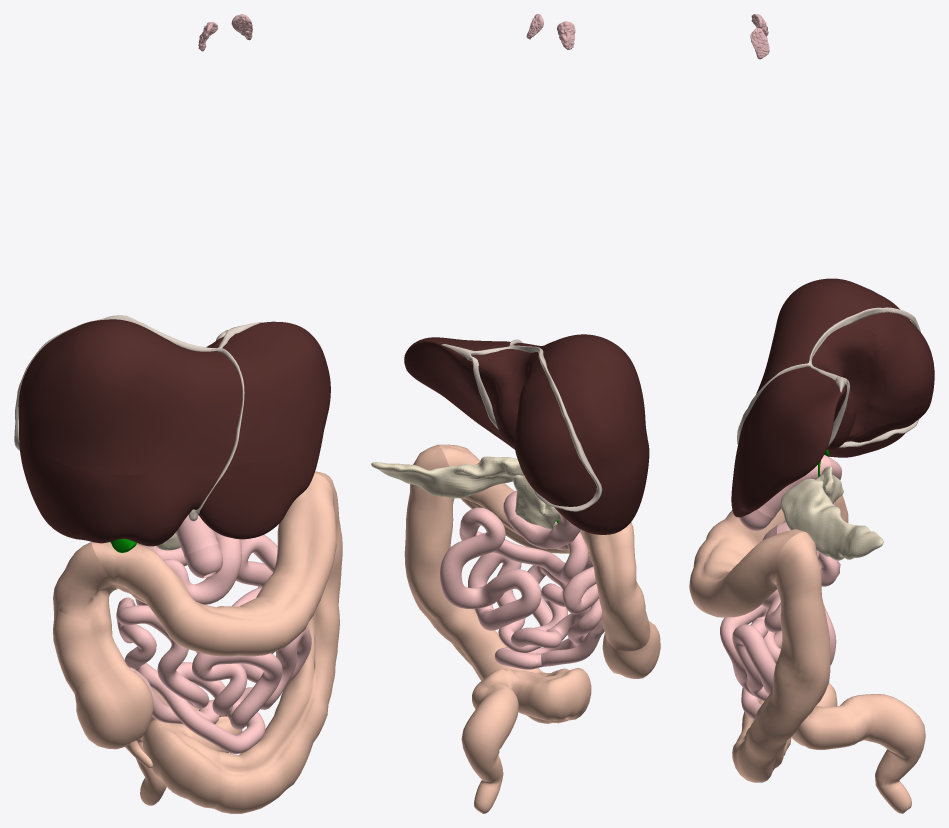
The model's file is digestive-meshopt.glb.
3 views of the same model, side by side, from view 1: azimuth 30°, elevation 25°; view 2: azimuth 150°, elevation 25°; view 3: azimuth 270°, elevation 25° (orthographic). The views are drawn at different scales.
Parts seen in each view (by area): view 1: VH_F_capsule_of_the_liver, VH_F_transverse_colon, VH_F_ileum, VH_F_descending_colon, VH_F_left_superomedial_segment1, VH_F_ascending_colon, VH_F_sigmoid_colon, VH_F_caecum, VH_F_jejenum, VH_F_left_inferomedial_segment, VH_F_right_anterosuperior_segment, VH_F_right_anteroinferior_segment (+9 smaller); view 2: VH_F_capsule_of_the_liver, VH_F_descending_colon, VH_F_bare_area_of_liver, VH_F_jejenum, VH_F_ileum, VH_F_ascending_colon, VH_F_rectum, VH_F_sigmoid_colon, VH_F_transverse_colon, VH_F_tail_of_pancreas, VH_F_left_superomedial_segment, VH_F_caecum (+8 smaller); view 3: VH_F_capsule_of_the_liver, VH_F_descending_colon, VH_F_bare_area_of_liver, VH_F_transverse_colon, VH_F_rectum, VH_F_ileum, VH_F_caudate_lobe, VH_F_sigmoid_colon, VH_F_tail_of_pancreas, VH_F_body_of_pancreas, VH_F_coronary_ligament_of_liver, VH_F_right_posterosuperior_segment (+7 smaller).
Boxes of the visible parts, x1,y1,x2,y2 form: VH_F_capsule_of_the_liver: (18,319,330,546); VH_F_transverse_colon: (91,473,336,656); VH_F_ileum: (116,597,311,753); VH_F_descending_colon: (214,471,342,813); VH_F_left_superomedial_segment1: (128,338,244,475); VH_F_ascending_colon: (53,542,126,693); VH_F_sigmoid_colon: (142,700,242,808); VH_F_caecum: (74,662,153,749); VH_F_jejenum: (135,535,277,682); VH_F_left_inferomedial_segment: (121,464,225,545); VH_F_right_anterosuperior_segment: (27,332,158,475); VH_F_right_anteroinferior_segment: (28,453,129,541); VH_F_capsule_of_the_liver: (404,334,649,534); VH_F_descending_colon: (404,444,552,723); VH_F_bare_area_of_liver: (466,350,596,506); VH_F_jejenum: (440,507,588,630); VH_F_ileum: (468,552,602,669); VH_F_ascending_colon: (589,522,650,651); VH_F_rectum: (461,685,518,813); VH_F_sigmoid_colon: (472,668,591,723); VH_F_transverse_colon: (439,444,599,556); VH_F_tail_of_pancreas: (371,462,468,498); VH_F_left_superomedial_segment: (405,339,509,412); VH_F_caecum: (602,621,660,678); VH_F_capsule_of_the_liver: (731,278,907,517); VH_F_descending_colon: (732,532,830,782); VH_F_bare_area_of_liver: (813,313,934,440); VH_F_transverse_colon: (689,509,804,617); VH_F_rectum: (852,694,925,813); VH_F_ileum: (720,552,840,719); VH_F_caudate_lobe: (812,326,888,449); VH_F_sigmoid_colon: (742,682,855,749); VH_F_tail_of_pancreas: (811,507,883,560); VH_F_body_of_pancreas: (780,478,837,536); VH_F_coronary_ligament_of_liver: (808,307,920,447); VH_F_right_posterosuperior_segment: (862,289,932,409).
Bounding box in the file's own units: 0.253 × 0.7141 × 0.2008.
